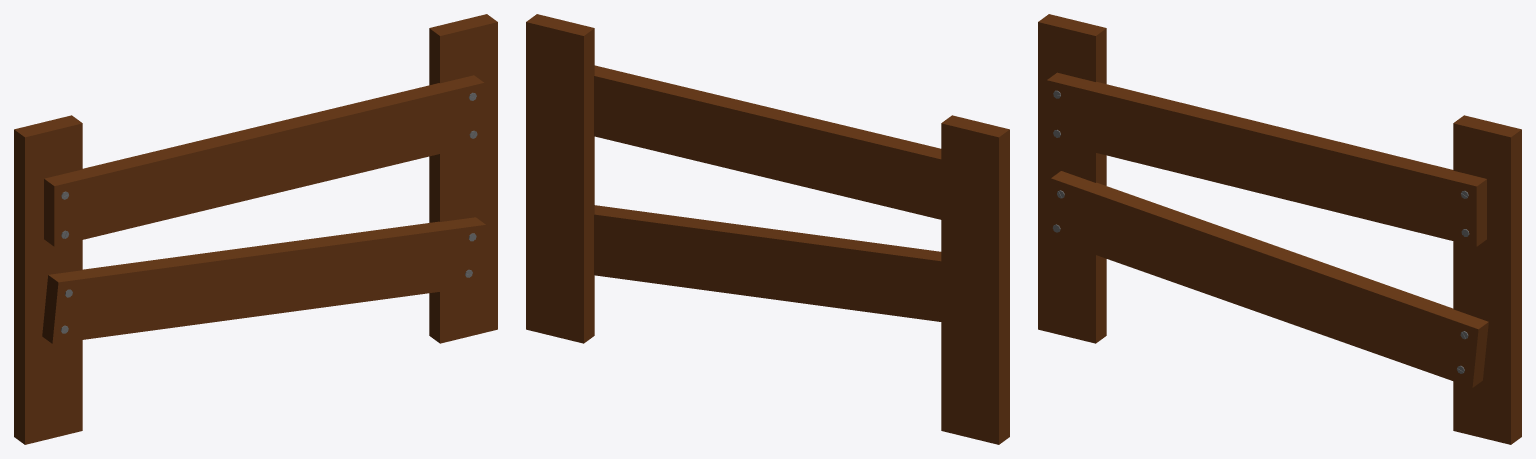
File: fence2.glb
3 views of the same model, side by side, from view 1: azimuth 30°, elevation 25°; view 2: azimuth 150°, elevation 25°; view 3: azimuth 330°, elevation 25° (orthographic).
Visible parts, largest first — view 1: Fence2; view 2: Fence2; view 3: Fence2.
Boxes of the visible parts, <box> form: Fence2: <box>14,14,497,444</box>; Fence2: <box>526,14,1009,444</box>; Fence2: <box>1038,14,1521,444</box>.
Bounding box in the file's own units: 3.51 × 2.18 × 0.2806.
2 materials, 1 textured.
